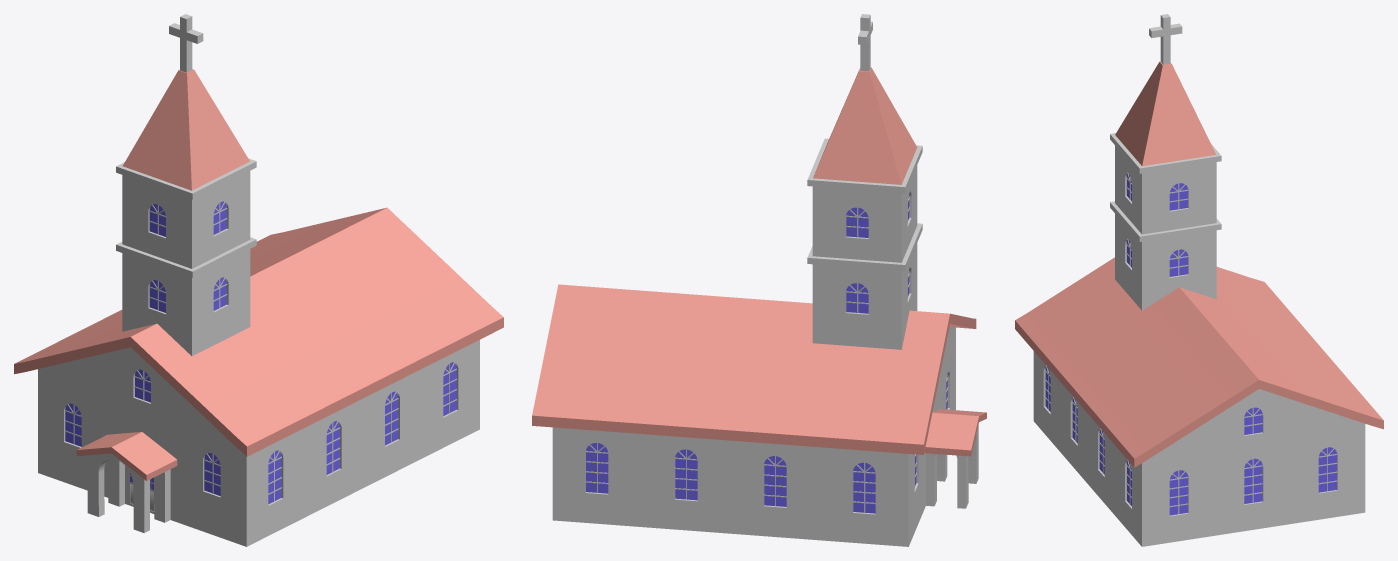
Rendered from church-d.glb.
The picture shows the model from 3 angles, left to right: view 1: azimuth 30°, elevation 25°; view 2: azimuth 150°, elevation 25°; view 3: azimuth 270°, elevation 25°; orthographic projection. The views are drawn at different scales.
Parts seen in each view (by area): view 1: Church, Cube.067, Cube.063; view 2: Church, Cube.067, Cube.063; view 3: Church, Cube.067.
Boxes of the visible parts, x1,y1,x2,y2 form: Church: (14, 207, 503, 546); Cube.067: (116, 14, 256, 355); Cube.063: (76, 432, 177, 532); Church: (532, 284, 976, 546); Cube.067: (807, 14, 922, 349); Cube.063: (924, 409, 986, 508); Church: (1015, 257, 1383, 546); Cube.067: (1110, 14, 1221, 310).
Size of the model in its own units: 0.6379 by 0.692 by 0.5621.
